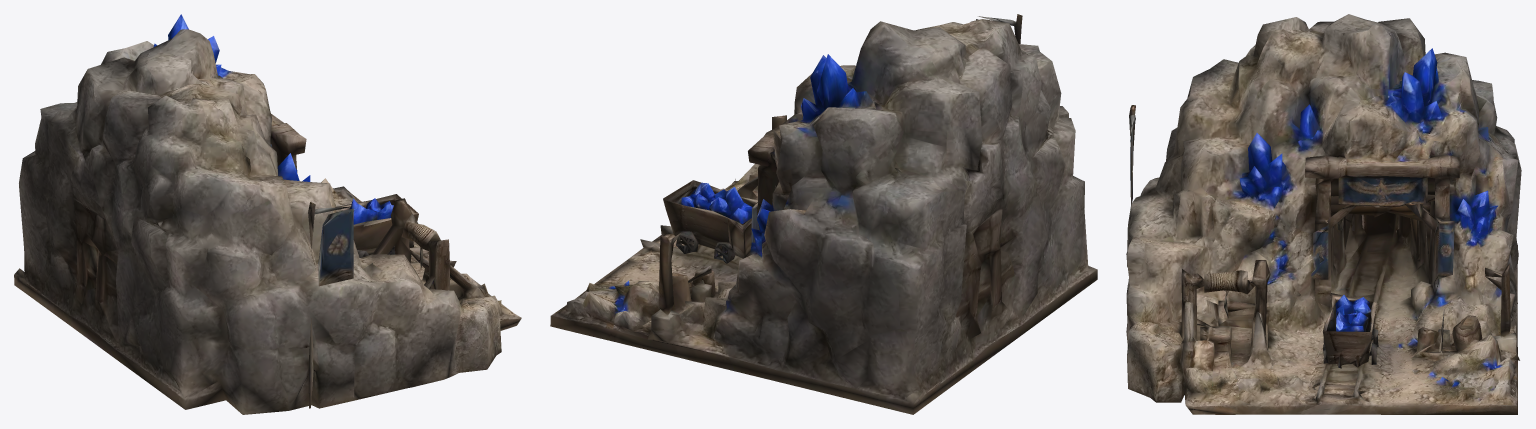
Rendered from dia_mine_blue.glb.
The picture shows the model from 3 angles, left to right: view 1: azimuth 30°, elevation 25°; view 2: azimuth 150°, elevation 25°; view 3: azimuth 270°, elevation 25°; orthographic projection. The views are drawn at different scales.
Parts seen in each view (by area): view 1: tripo_node_fd70fdb6-0e42-4c52-a186-2ea6a333f92f; view 2: tripo_node_fd70fdb6-0e42-4c52-a186-2ea6a333f92f; view 3: tripo_node_fd70fdb6-0e42-4c52-a186-2ea6a333f92f.
Boxes of the visible parts, box(x1,y1,x2,y2) form: tripo_node_fd70fdb6-0e42-4c52-a186-2ea6a333f92f: box(14, 14, 521, 414); tripo_node_fd70fdb6-0e42-4c52-a186-2ea6a333f92f: box(550, 14, 1097, 414); tripo_node_fd70fdb6-0e42-4c52-a186-2ea6a333f92f: box(1126, 14, 1521, 414).
Size of the model in its own units: 0.9474 by 0.7718 by 0.978.
Materials: 1 (1 with a texture image).
